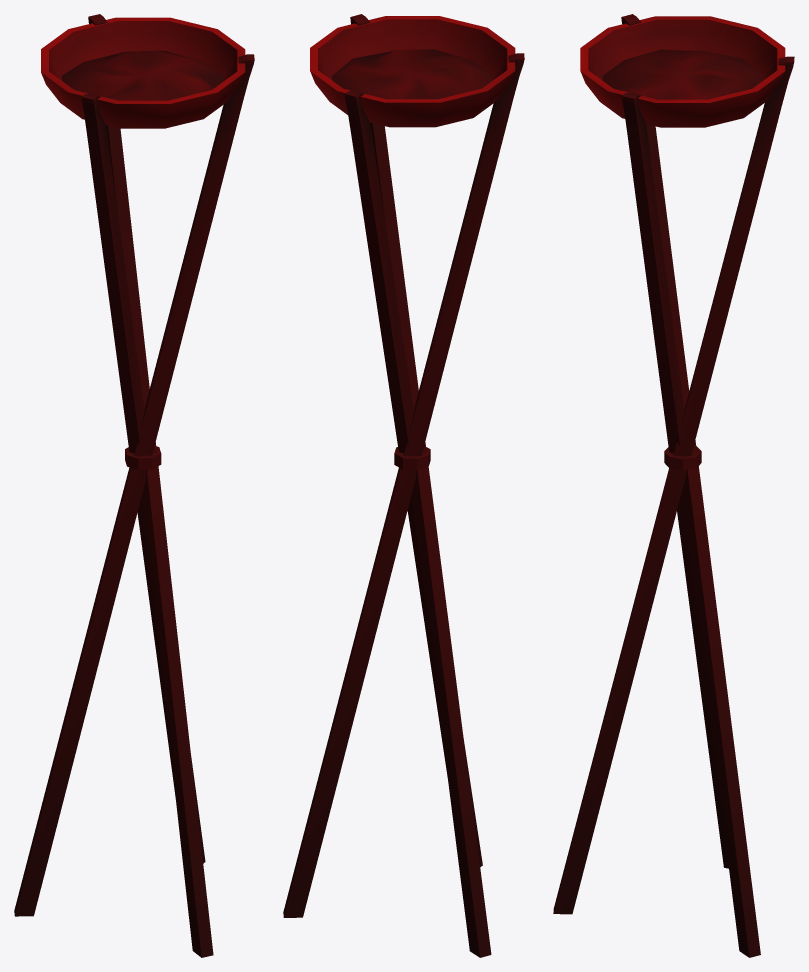
File: StandingBronzeTorch.glb
3 views of the same model, side by side, from view 1: azimuth 30°, elevation 25°; view 2: azimuth 150°, elevation 25°; view 3: azimuth 270°, elevation 25° (orthographic).
Visible parts, largest first — view 1: StandingBronzeTorch; view 2: StandingBronzeTorch; view 3: StandingBronzeTorch.
Boxes of the visible parts, bbox=[...] form: StandingBronzeTorch: bbox=[14, 14, 254, 957]; StandingBronzeTorch: bbox=[283, 14, 524, 957]; StandingBronzeTorch: bbox=[553, 14, 794, 957].
Bounding box in the file's own units: 2.05 × 8.4 × 2.15.
